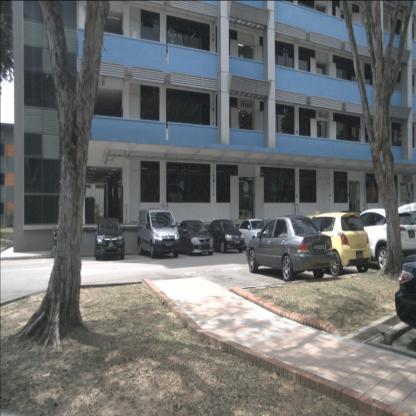human-pedestrian-adult: (239, 122, 245, 150)
vehicle-car: (246, 215, 334, 282), (300, 211, 372, 277), (342, 208, 416, 272), (138, 208, 180, 258), (395, 253, 415, 331), (175, 220, 215, 256), (206, 220, 245, 253), (235, 219, 274, 252), (95, 218, 125, 260), (236, 210, 253, 224)
